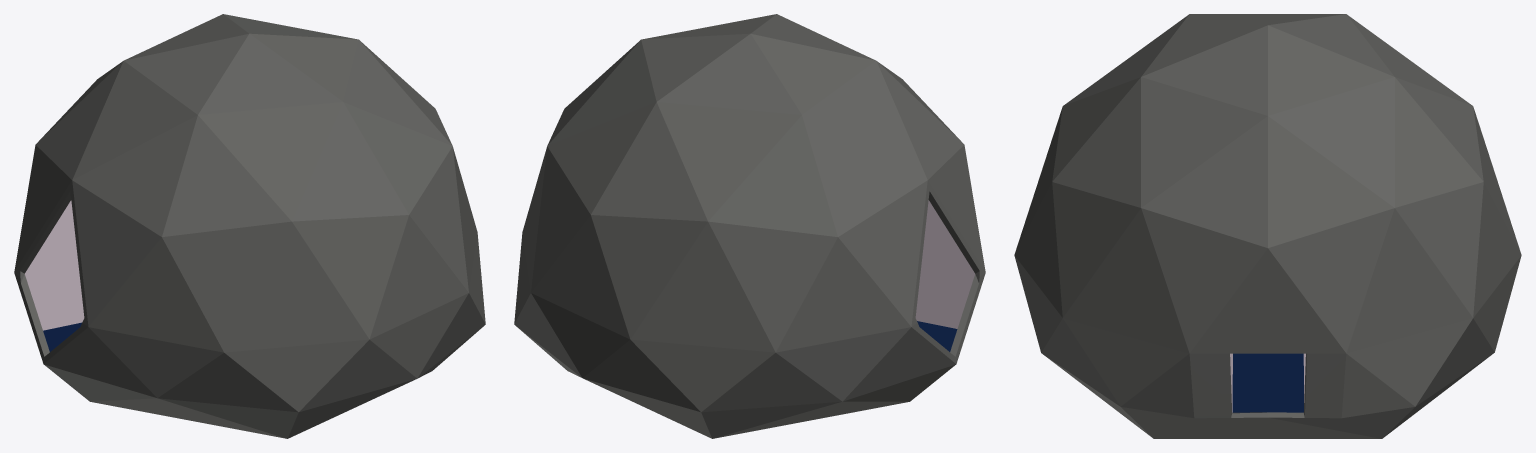
The picture shows the model from 3 angles, left to right: view 1: azimuth 30°, elevation 25°; view 2: azimuth 150°, elevation 25°; view 3: azimuth 270°, elevation 25°; orthographic projection. The views are drawn at different scales.
Parts seen in each view (by area): view 1: Nave; view 2: Nave; view 3: Nave.
Boxes of the visible parts, x1,y1,x2,y2 form: Nave: (14, 14, 485, 438); Nave: (514, 14, 985, 438); Nave: (1014, 14, 1521, 438).
Size of the model in its own units: 191 by 159 by 200.
